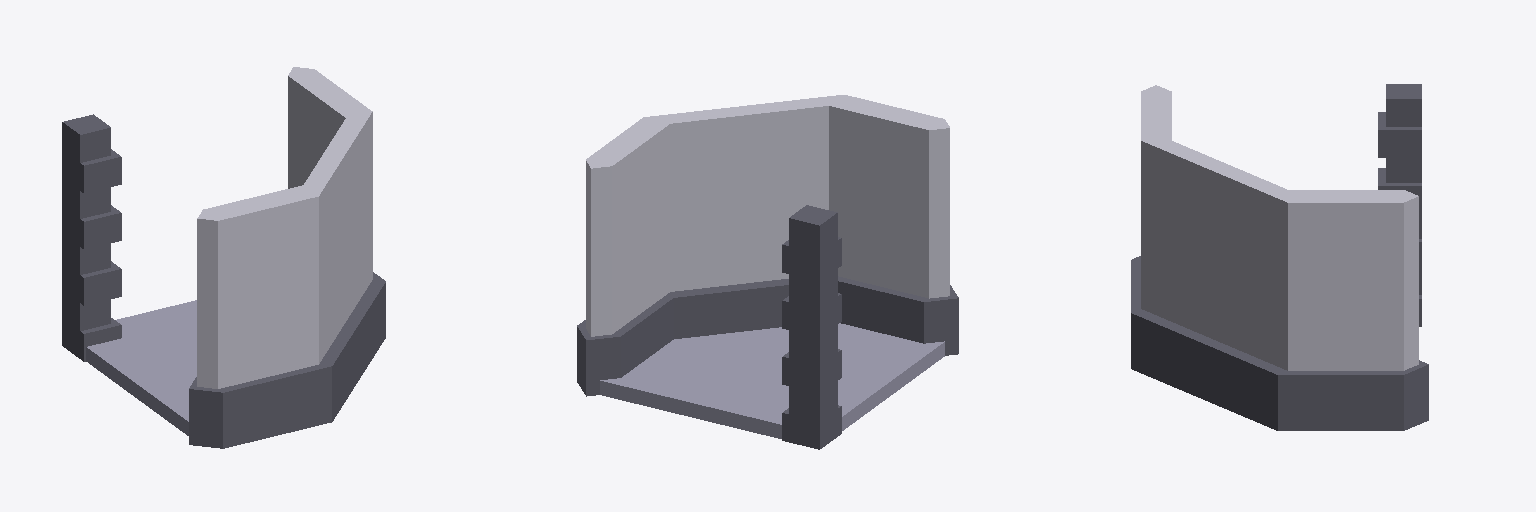
The model's file is sm_corner_01.obj.
3 renders of one model, left to right at view 1: azimuth 30°, elevation 25°; view 2: azimuth 150°, elevation 25°; view 3: azimuth 270°, elevation 25°, orthographic.
Parts seen in each view (by area): view 1: corner_02_0, wall_borderBricks_2, floor_corner_1; view 2: corner_02_0, floor_corner_1, wall_borderBricks_2; view 3: corner_02_0, wall_borderBricks_2.
Part boxes in pixels (left/top/right/bottom): corner_02_0: left=189, top=67, right=385, bottom=448; wall_borderBricks_2: left=62, top=114, right=121, bottom=361; floor_corner_1: left=86, top=300, right=196, bottom=435; corner_02_0: left=577, top=95, right=958, bottom=396; floor_corner_1: left=600, top=323, right=944, bottom=438; wall_borderBricks_2: left=782, top=205, right=841, bottom=449; corner_02_0: left=1131, top=85, right=1428, bottom=430; wall_borderBricks_2: left=1378, top=84, right=1421, bottom=326.
Size of the model in its own units: 1.21 by 1 by 1.21.